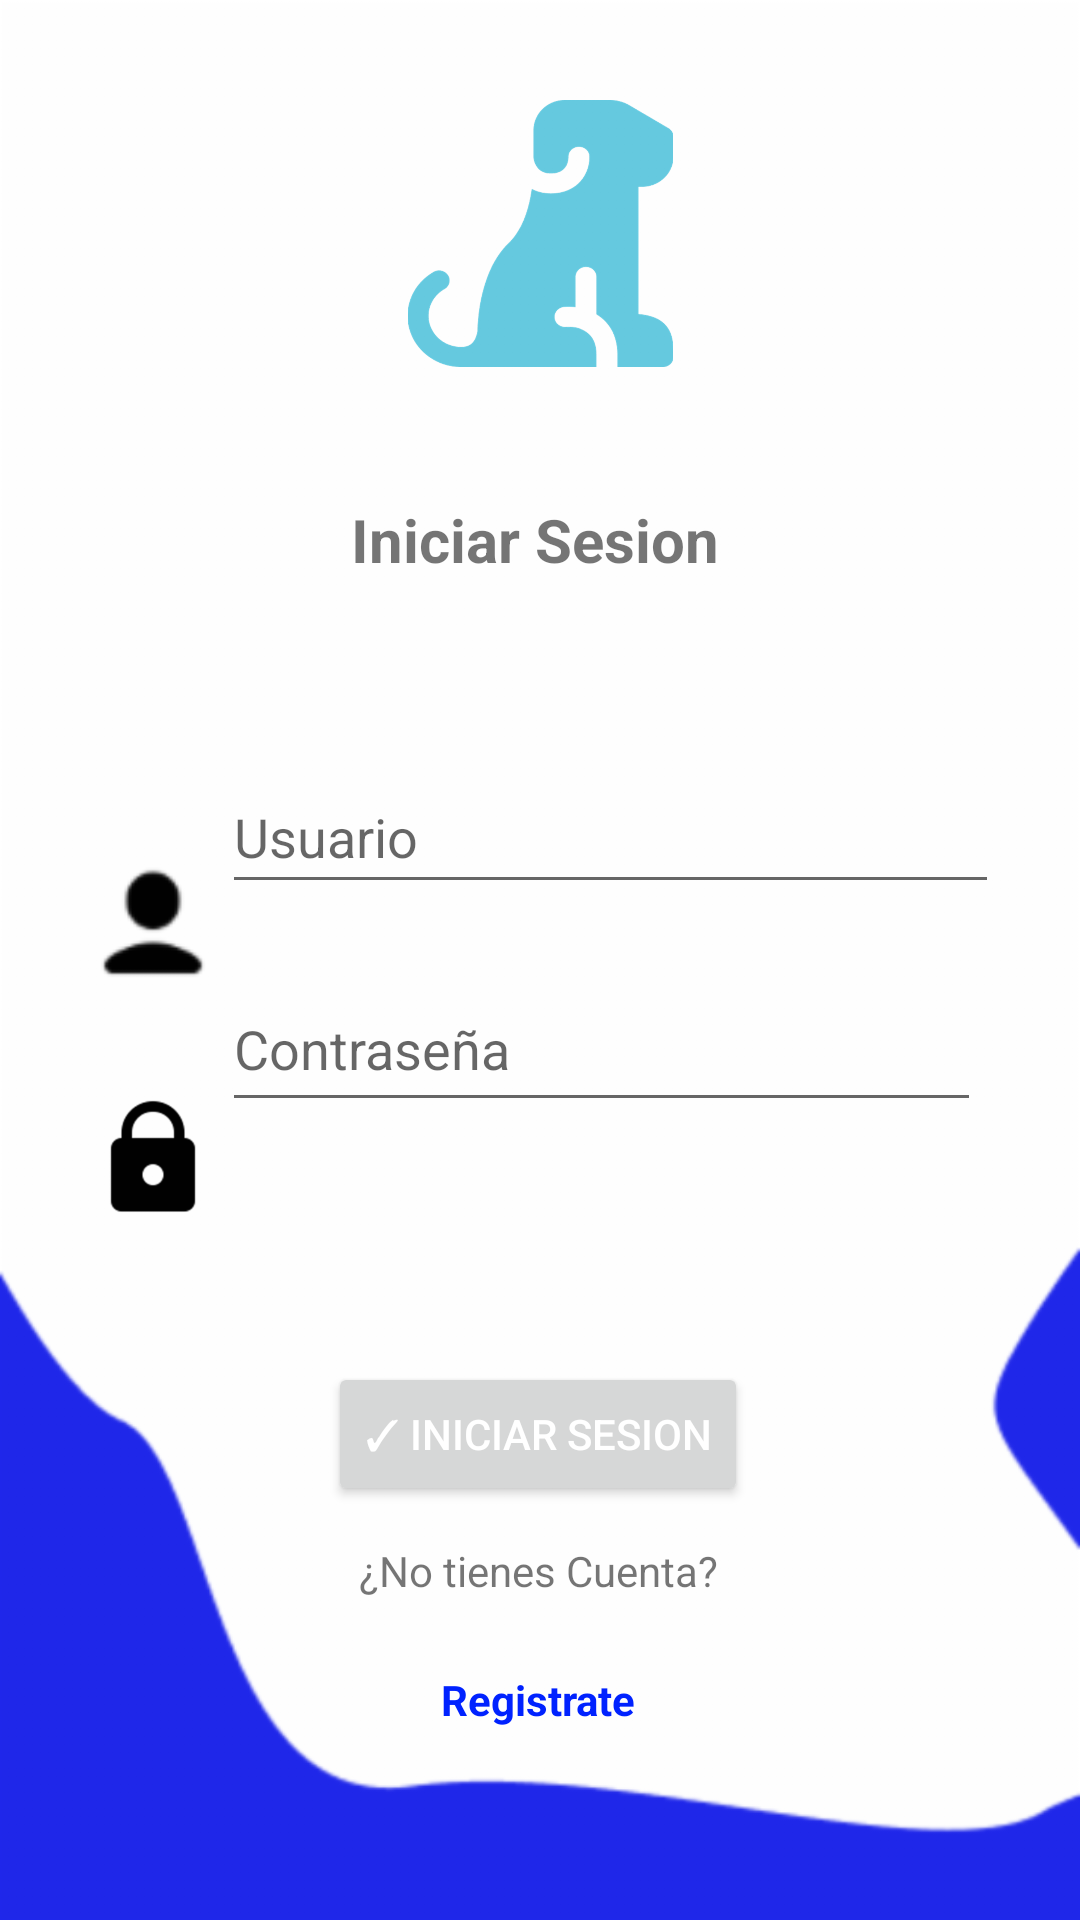

Icon click points for this 1080*1920 phone screenshot, format (x=x, y=y):
lock: (x=153, y=1156)
user: (x=153, y=922)
